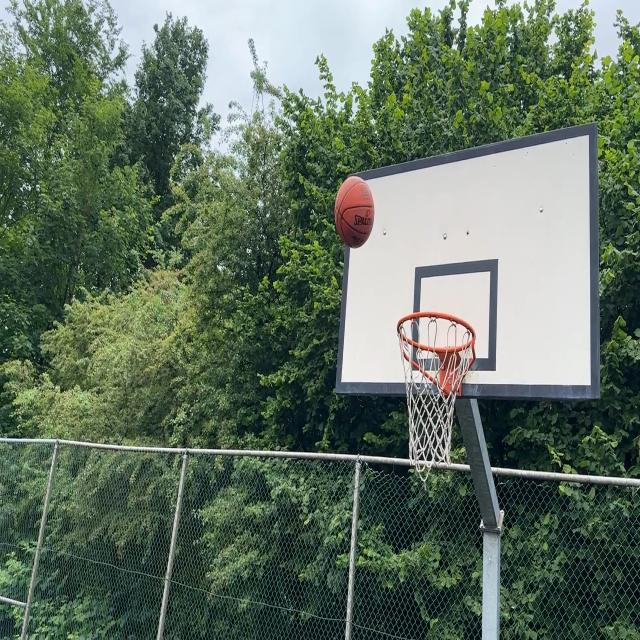Basketball: (336, 175, 374, 247)
